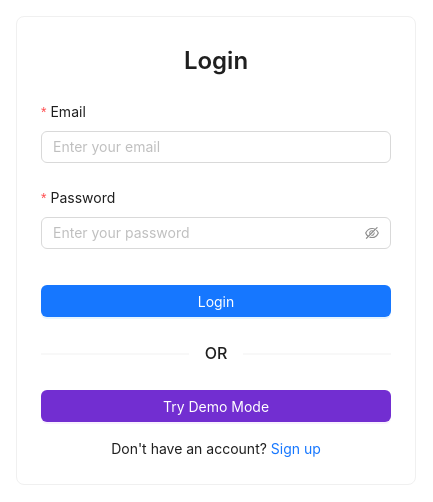
Test: Login Component › displays validation error for invalid email
// Submit with invalid email
Type "invalid-email" into the field with placeholder "Enter your email" at (216, 147), box x1=41 y1=131 x2=391 y2=163
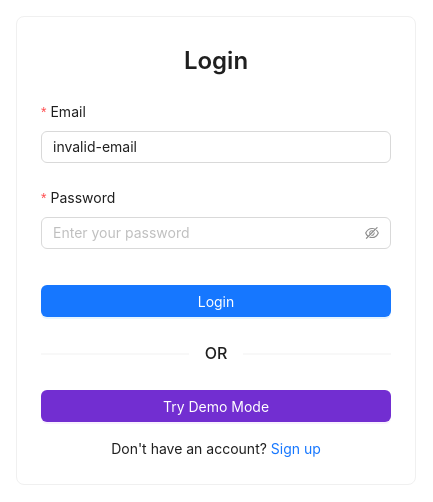
Type "password123" into the password field with placeholder "Enter your password" at (207, 233), box x1=53 y1=222 x2=361 y2=244
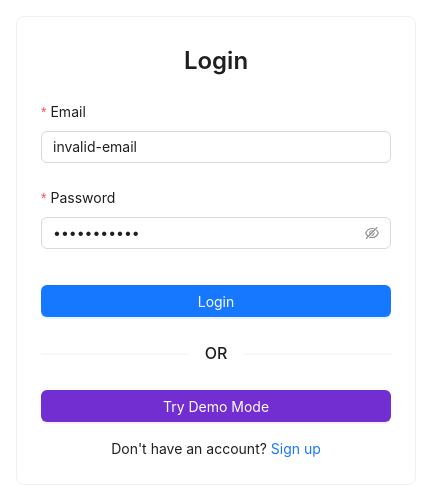
Click the button "Login" at (216, 301), box x1=41 y1=285 x2=391 y2=317
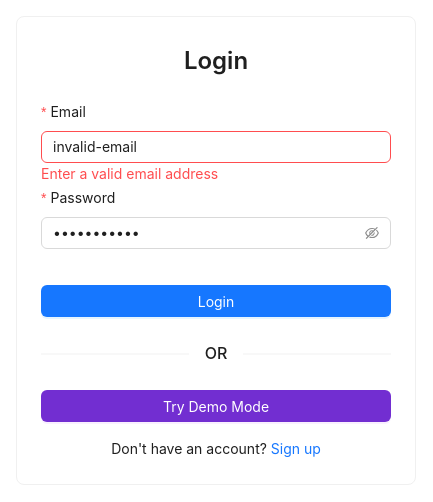
Expected: the text "Enter a valid email address" is shown, x1=41 y1=165 x2=218 y2=182
